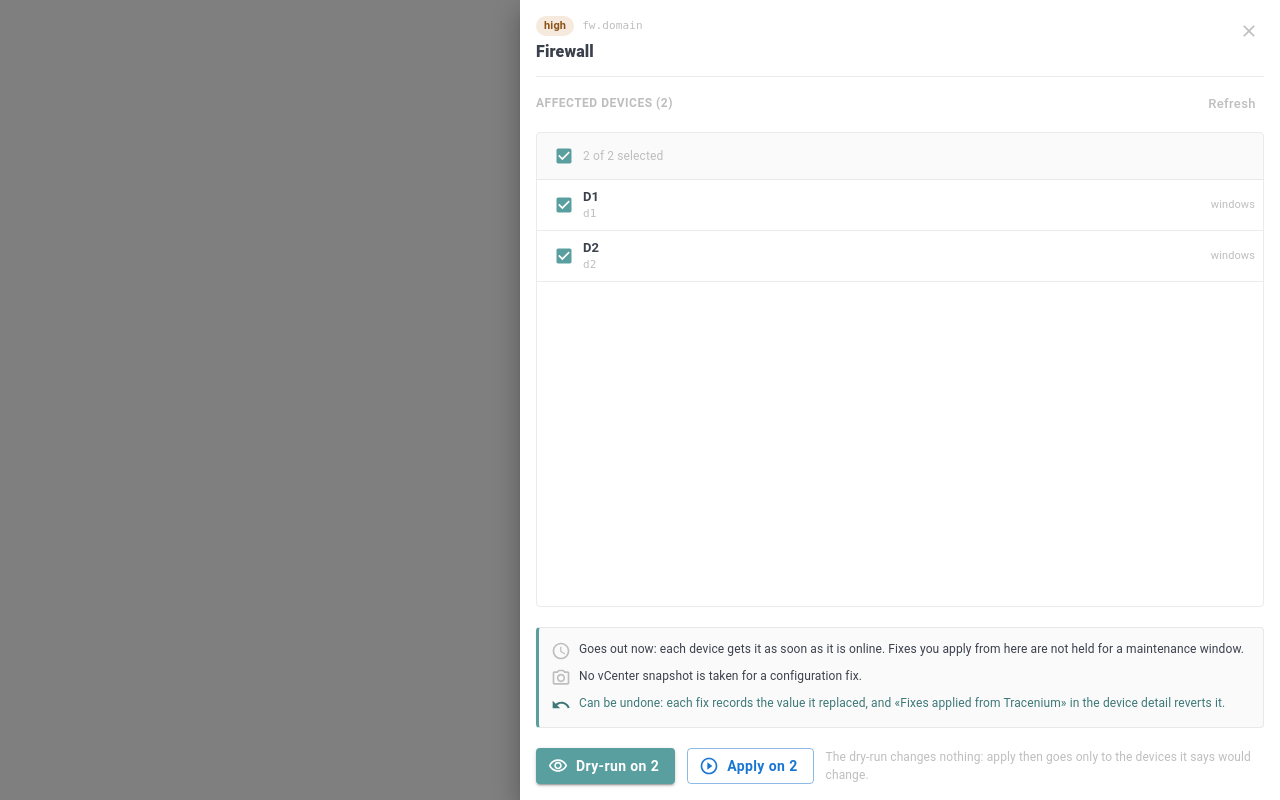
Test: simular, luego aplicar › si nada cambiaría, Apply está pero apagado y lo dice
Click the button "Dry-run on 2" at (606, 766), box [536, 748, 675, 784]
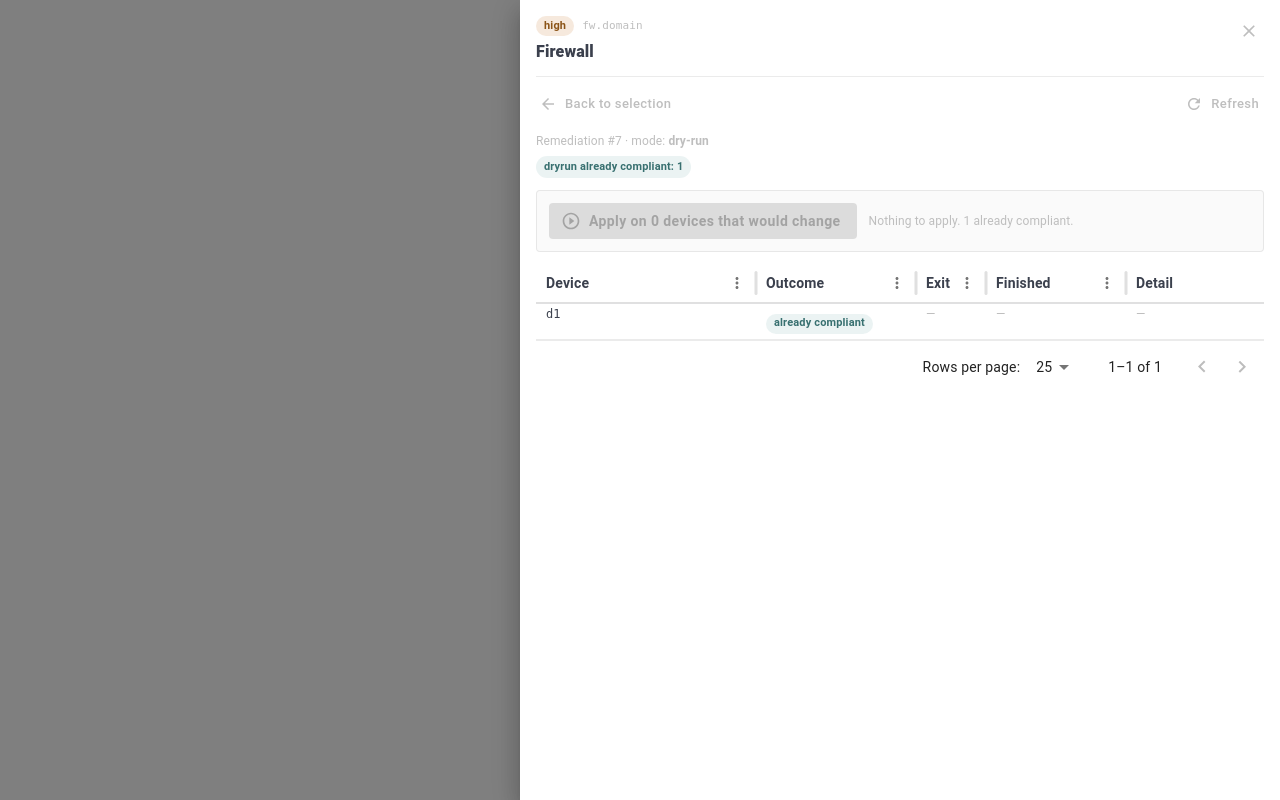
Check: the button "Apply on 0 devices that would change" is disabled, box [549, 203, 856, 239]
Check: the text "Nothing to apply. 1 already compliant." is shown, box [868, 212, 1074, 230]
